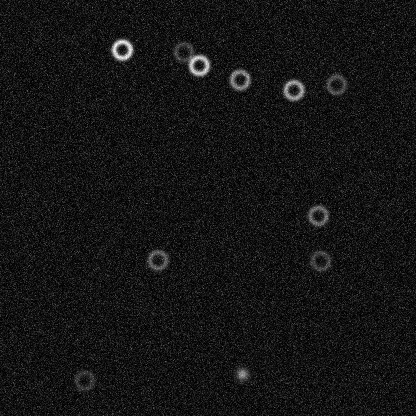Ring: (145, 247, 169, 271), (171, 39, 195, 63), (186, 53, 210, 77), (72, 368, 96, 392), (324, 72, 348, 96), (227, 67, 251, 91), (308, 248, 332, 272), (305, 203, 329, 227), (281, 77, 305, 101), (109, 37, 133, 61)
Spot: (234, 366, 250, 382)
